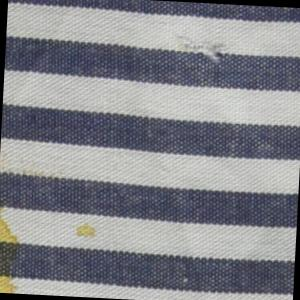Damage: (171, 32, 232, 71)
Oil Stain: (1, 198, 24, 294), (70, 221, 101, 243)
